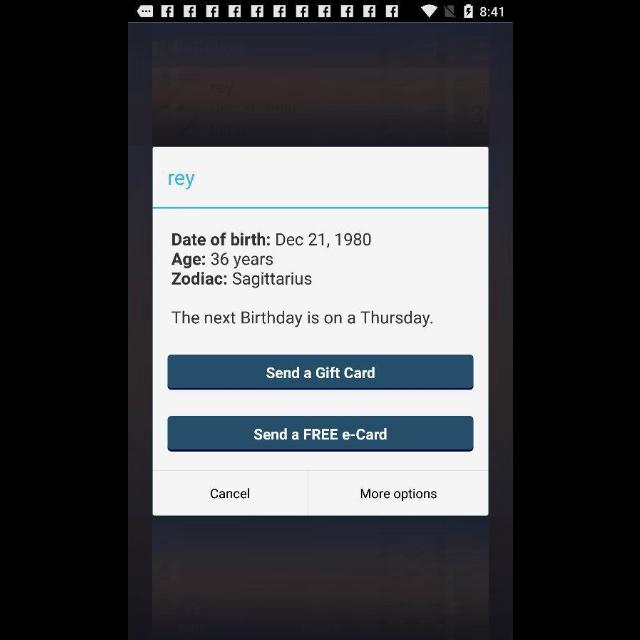panel: (152, 147, 488, 515)
text: (171, 234, 371, 288), (170, 311, 436, 327), (168, 175, 194, 189)
textbutton: (167, 416, 473, 452), (167, 355, 473, 389), (308, 471, 487, 515), (153, 470, 307, 516)
uppertaskbar: (128, 1, 512, 23)
